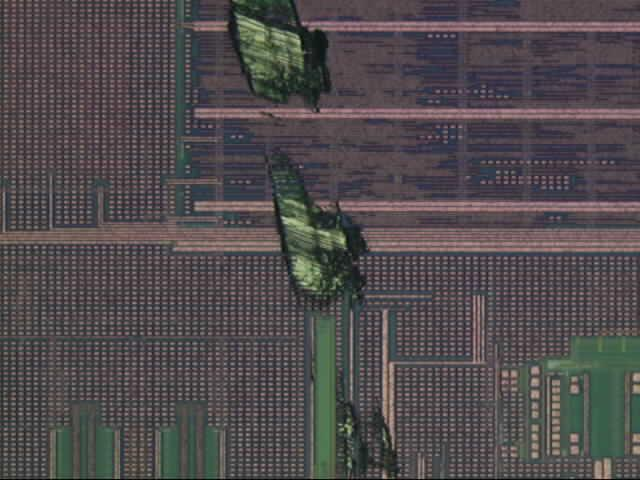SCRATCH: (220, 1, 408, 480)
